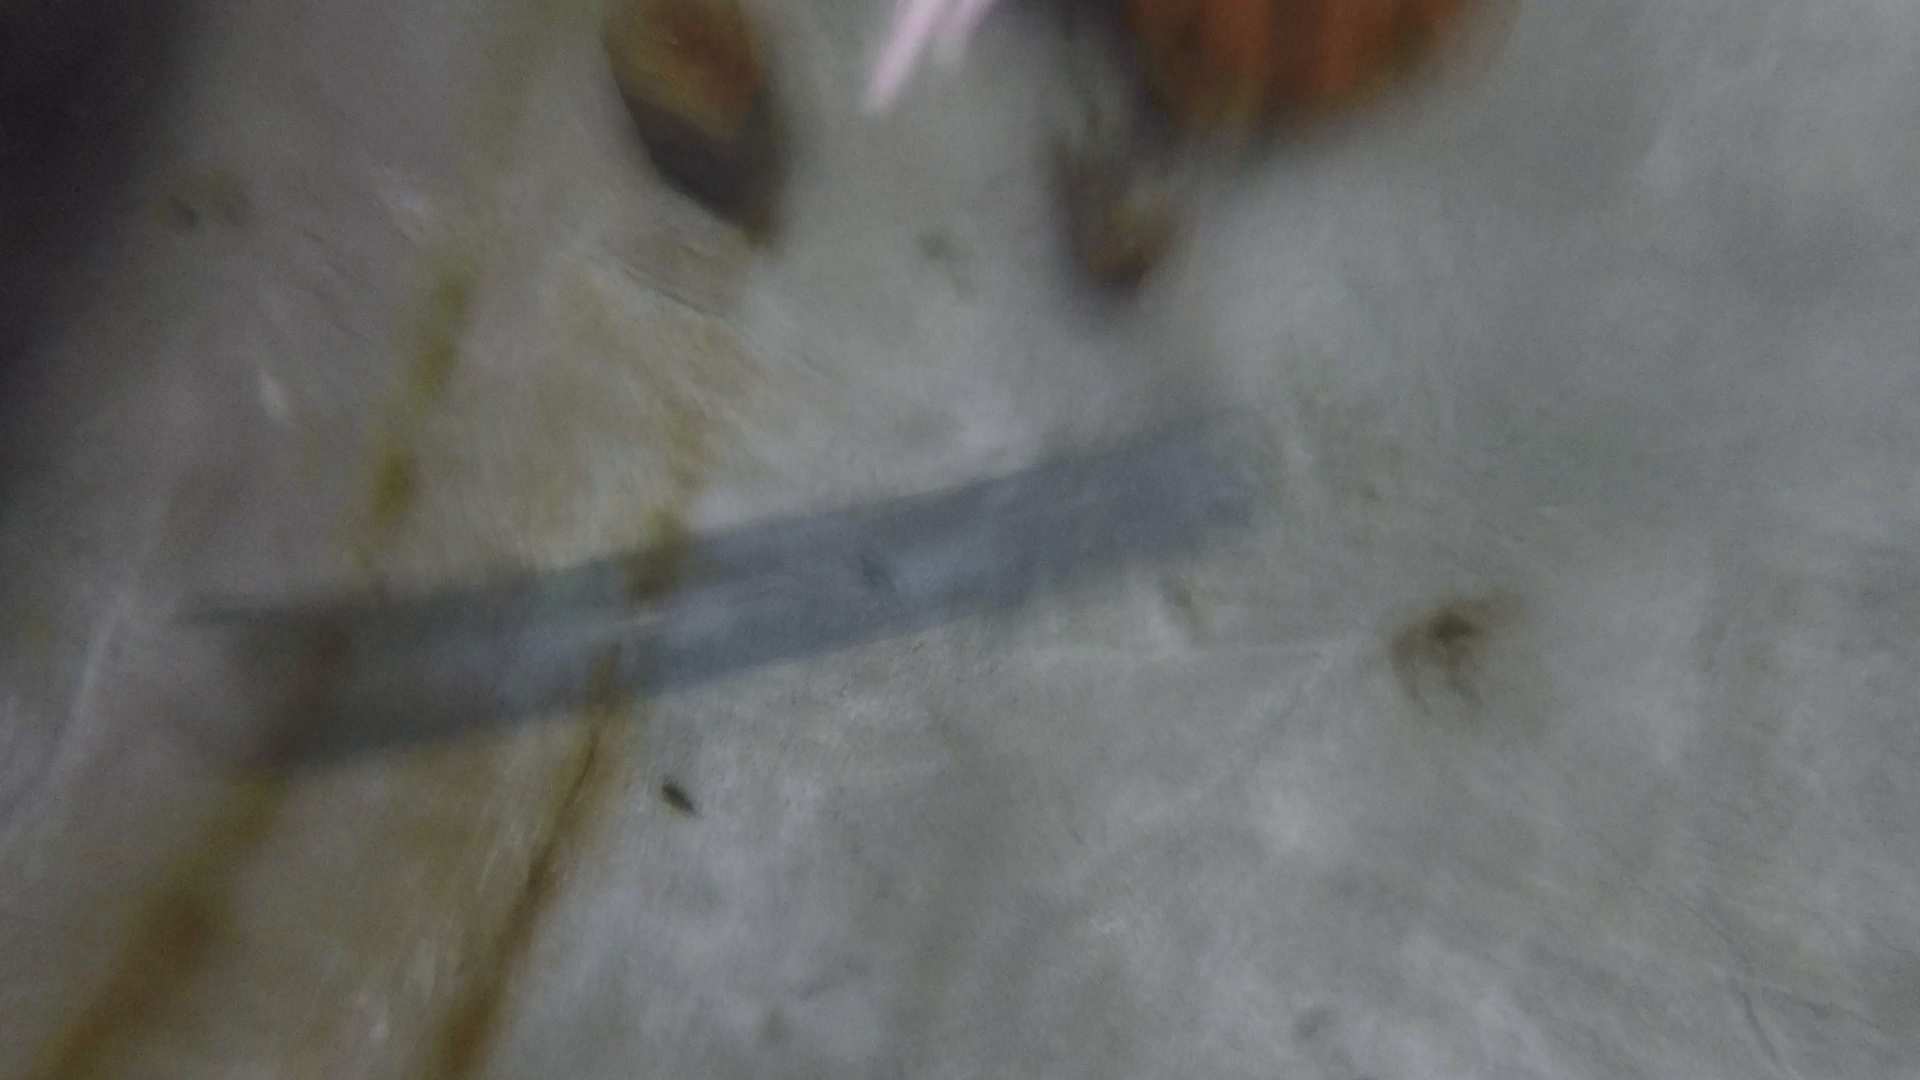led_block: (1046, 1, 1513, 145), (611, 1, 790, 243), (1050, 131, 1178, 293)
pipe: (185, 406, 1269, 781)
